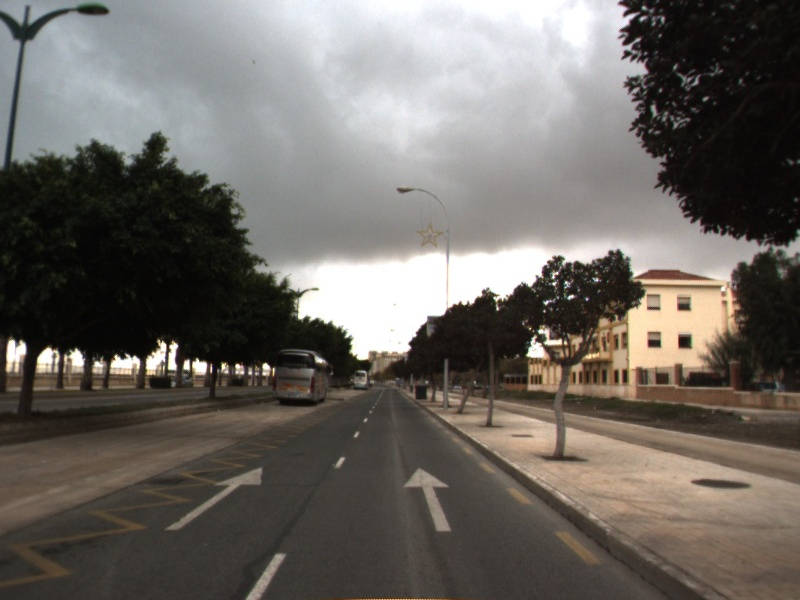STRAIGHT: (162, 464, 264, 533), (401, 465, 453, 535)
